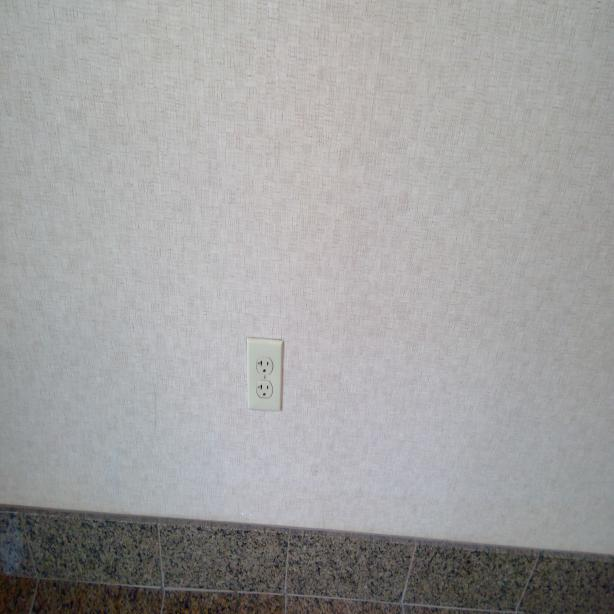typeb: (255, 355, 272, 375), (255, 381, 272, 399)
